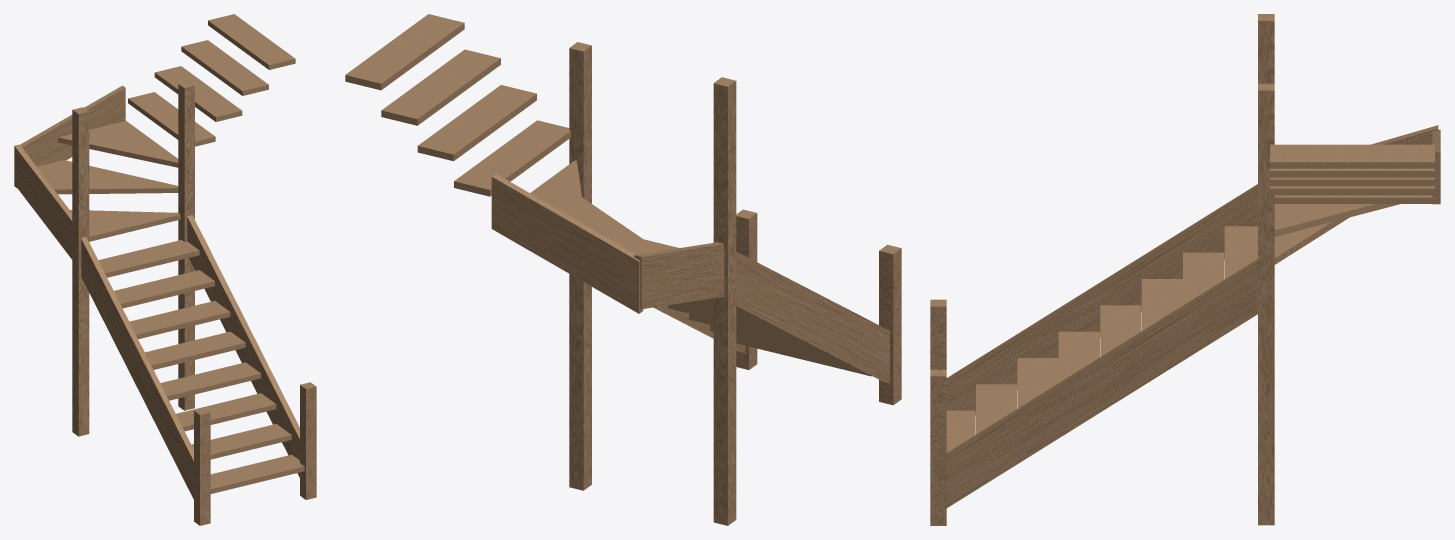
File: Stairs.glb
The picture shows the model from 3 angles, left to right: view 1: azimuth 30°, elevation 25°; view 2: azimuth 150°, elevation 25°; view 3: azimuth 270°, elevation 25°; orthographic projection. The views are drawn at different scales.
Parts seen in each view (by area): view 1: Cube, Cube.004, Side2, Newell.003, Side1, Newell.002, Side1.001, Side1.002, Cube.002, Cube.003, Newell.001, Newell (+1 smaller); view 2: Cube.004, Newell.003, Side1.002, Side2, Newell.002, Side1.001, Cube, Newell.001, Cube.003, Cube.002, Newell; view 3: Side1, Cube, Side2, Cube.004, Newell.002, Newell, Cube.002, Cube.001, Cube.003, Newell.001, Newell.003, Side1.001.
Boxes of the visible parts, x1,y1,x2,y2 form: Cube: [98, 240, 304, 493]; Cube.004: [128, 14, 295, 146]; Side2: [81, 237, 193, 499]; Newell.003: [72, 107, 89, 436]; Side1: [187, 215, 299, 477]; Newell.002: [178, 81, 194, 410]; Side1.001: [14, 144, 72, 259]; Side1.002: [14, 85, 125, 188]; Cube.002: [37, 160, 178, 194]; Cube.003: [58, 121, 178, 167]; Newell.001: [194, 408, 210, 525]; Newell: [300, 382, 316, 499]; Cube.004: [345, 14, 570, 196]; Newell.003: [713, 77, 736, 525]; Side1.002: [491, 174, 643, 313]; Side2: [736, 251, 889, 382]; Newell.002: [569, 42, 591, 490]; Side1.001: [634, 242, 724, 309]; Cube: [668, 298, 872, 376]; Newell.001: [879, 244, 901, 405]; Cube.003: [530, 160, 585, 225]; Cube.002: [579, 197, 659, 281]; Newell: [736, 209, 757, 369]; Side1: [946, 259, 1257, 507]; Cube: [946, 226, 1257, 452]; Side2: [946, 184, 1257, 414]; Cube.004: [1270, 144, 1434, 195]; Newell.002: [1258, 83, 1274, 525]; Newell: [930, 369, 946, 525]; Cube.002: [1274, 204, 1400, 236]; Cube.001: [1274, 195, 1348, 264]; Cube.003: [1274, 195, 1436, 203]; Newell.001: [930, 299, 946, 369]; Newell.003: [1258, 14, 1274, 83]; Side1.001: [1371, 125, 1438, 144].
Size of the model in its own units: 2.09 by 2.91 by 3.09.
Materials: 3 (3 with a texture image).
